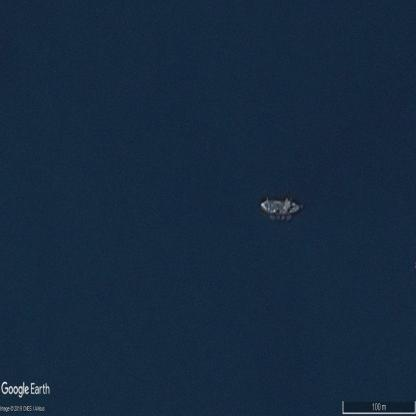ship: (260, 198, 300, 221)
